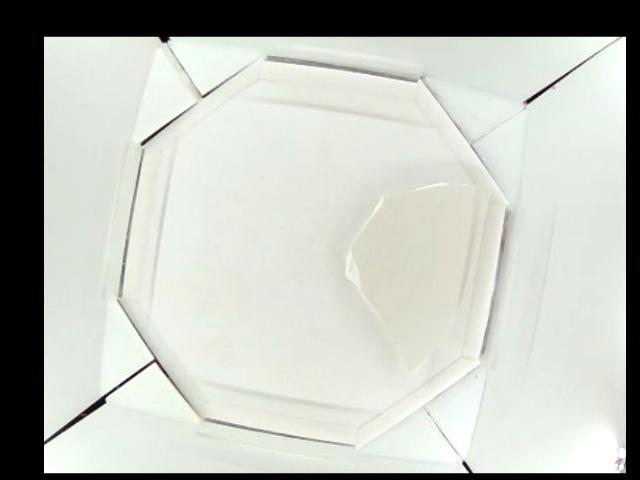China: (345, 178, 475, 376)
